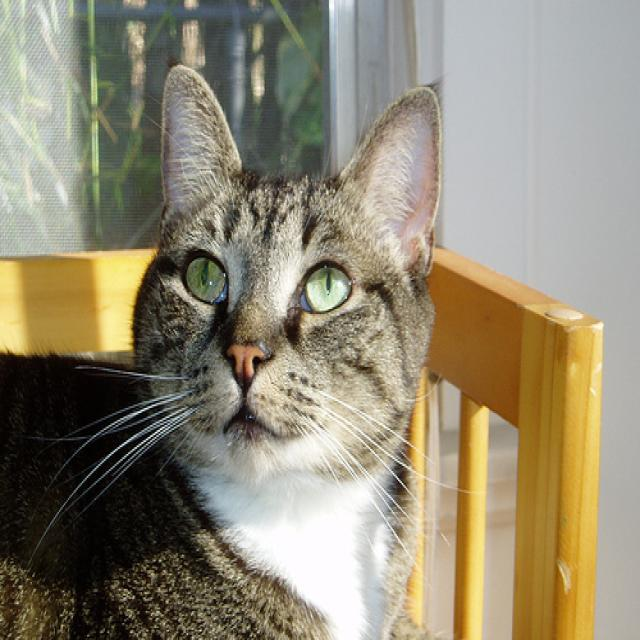left eye: (297, 258, 355, 314)
